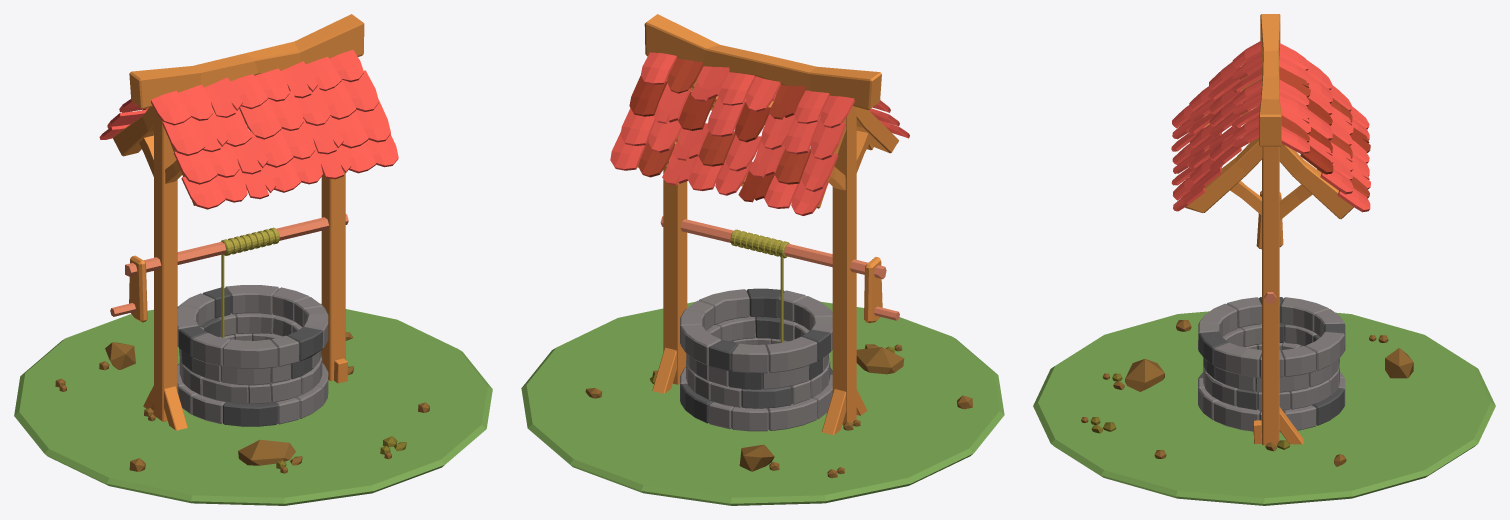
File: lowpoly.glb
3 views of the same model, side by side, from view 1: azimuth 30°, elevation 25°; view 2: azimuth 150°, elevation 25°; view 3: azimuth 270°, elevation 25° (orthographic). The views are drawn at different scales.
Parts seen in each view (by area): view 1: Cylinder.002, Plane.027, Cube.003, Cube.010, Cube.005, Cube.004, Cube.002, Cube, Cube.001, Cylinder, Icosphere.003, Cube.012 (+5 smaller); view 2: Cylinder.002, Plane.000, Cube.003, Cube.010, Cube.005, Cube.002, Cube.004, Cube, Cube.001, Cylinder, Cube.011, Icosphere.003 (+6 smaller); view 3: Cylinder.002, Plane.000, Plane.027, Cube.003, Cube.004, Cube.002, Cube, Cube.010, Cube.001, Cube.011, Cube.012, Icosphere.003 (+2 smaller).
Part boxes in pixels (x1,y1,x2,y2): Cylinder.002: [14, 303, 492, 505]; Plane.027: [151, 49, 398, 209]; Cube.003: [177, 285, 328, 368]; Cube.010: [129, 14, 364, 109]; Cube.005: [154, 109, 177, 421]; Cube.004: [321, 169, 345, 380]; Cube.002: [179, 313, 321, 385]; Cube: [177, 363, 328, 426]; Cube.001: [179, 333, 322, 404]; Cylinder: [125, 214, 348, 276]; Icosphere.003: [238, 439, 295, 465]; Cube.012: [113, 88, 309, 156]; Cylinder.002: [521, 301, 1004, 505]; Plane.000: [610, 52, 854, 215]; Cube.003: [680, 288, 832, 373]; Cube.010: [644, 14, 881, 109]; Cube.005: [832, 94, 856, 424]; Cube.002: [686, 315, 828, 389]; Cube.004: [663, 133, 687, 384]; Cube: [680, 367, 832, 431]; Cube.001: [686, 334, 830, 408]; Cylinder: [660, 216, 886, 279]; Cube.011: [691, 74, 898, 153]; Icosphere.003: [856, 347, 904, 374]; Cylinder.002: [1033, 311, 1495, 505]; Plane.000: [1279, 43, 1370, 212]; Plane.027: [1171, 41, 1262, 211]; Cube.003: [1198, 297, 1345, 378]; Cube.004: [1262, 146, 1279, 445]; Cube.002: [1203, 322, 1339, 392]; Cube: [1198, 372, 1345, 432]; Cube.010: [1259, 14, 1281, 146]; Cube.001: [1203, 341, 1339, 410]; Cube.011: [1185, 71, 1262, 212]; Cube.012: [1279, 144, 1353, 219]; Icosphere.003: [1125, 359, 1164, 391].
Bounding box in the file's own units: 18.25 × 15.79 × 18.25.
